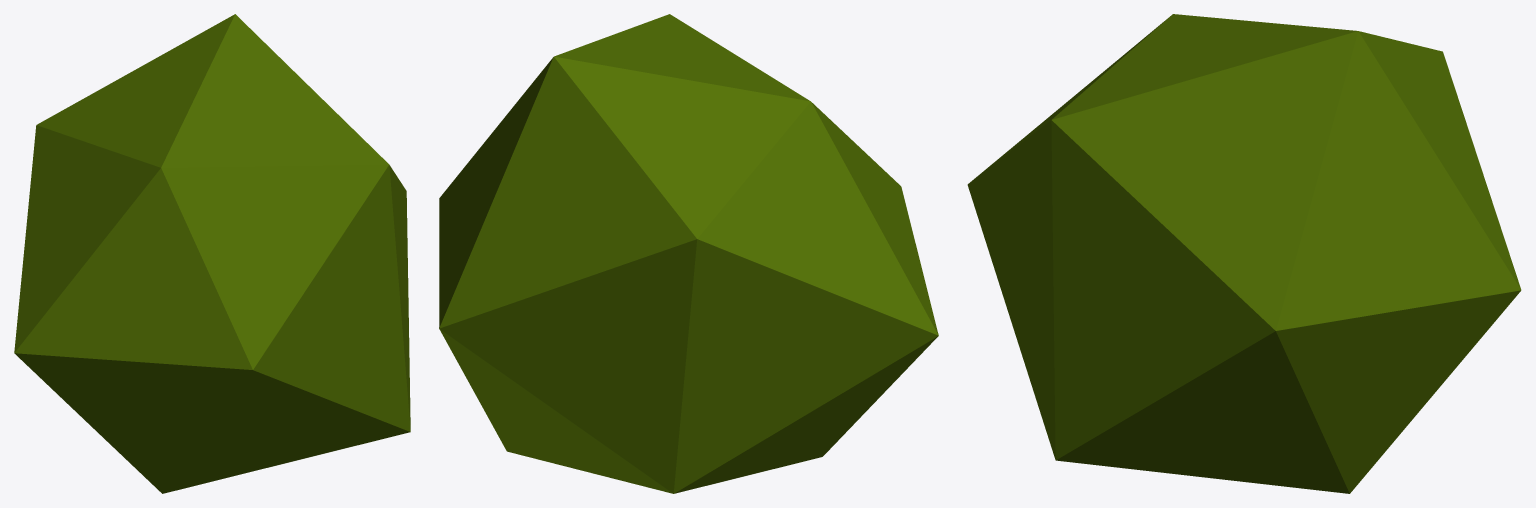
Rendered from glass01.fbx.
3 views of the same model, side by side, from view 1: azimuth 30°, elevation 25°; view 2: azimuth 150°, elevation 25°; view 3: azimuth 270°, elevation 25° (orthographic). The views are drawn at different scales.
Parts seen in each view (by area): view 1: glass01; view 2: glass01; view 3: glass01.
Part boxes in pixels (x1,y1,x2,y2): glass01: (14,14,410,493); glass01: (439,14,938,493); glass01: (967,14,1521,493).
Bounding box in the file's own units: 108 × 112 × 97.43.
